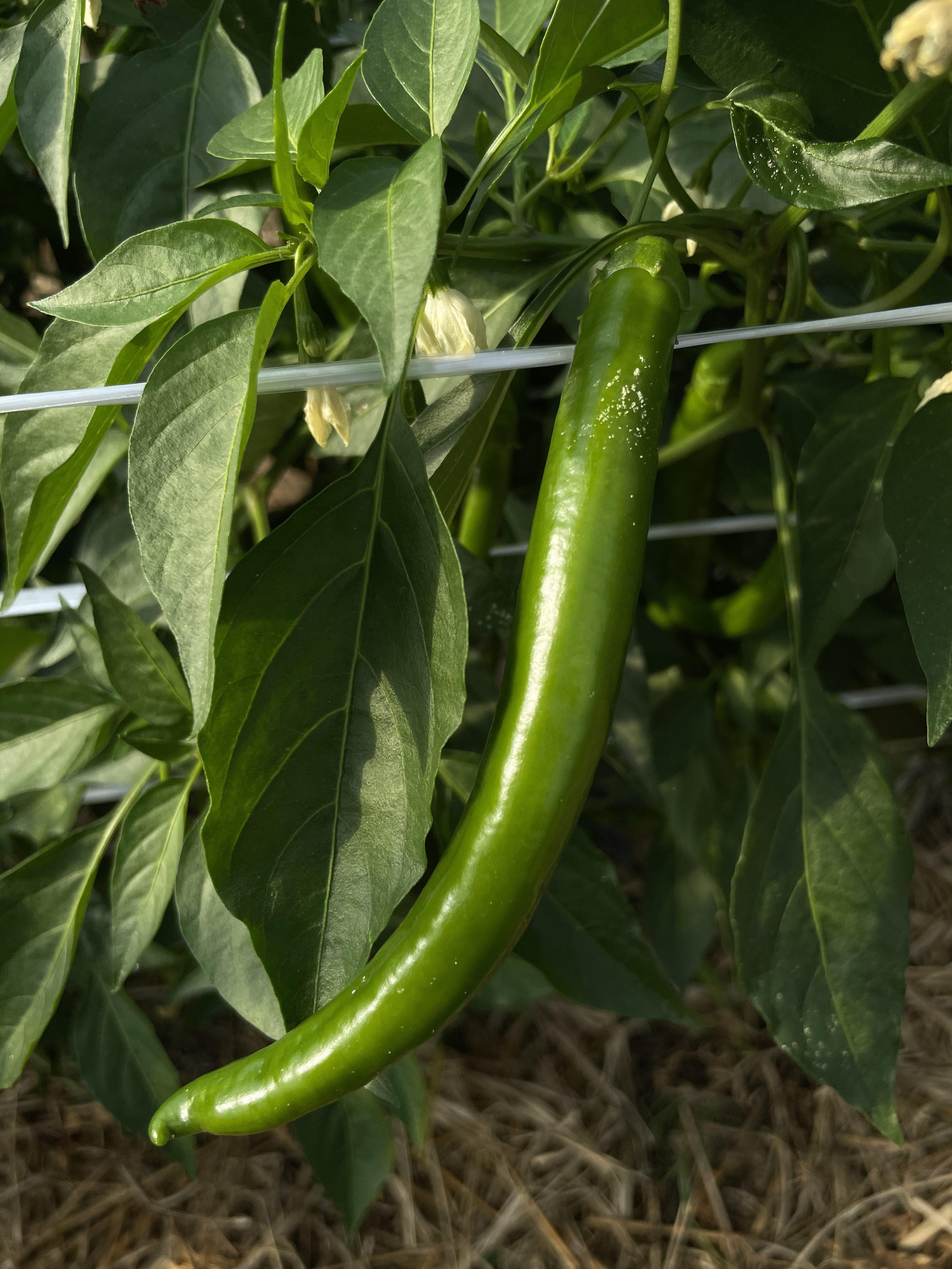Buah Cabai Sehat: (145, 230, 690, 1150)
Daun Cabai Sehat: (192, 410, 471, 1044)
